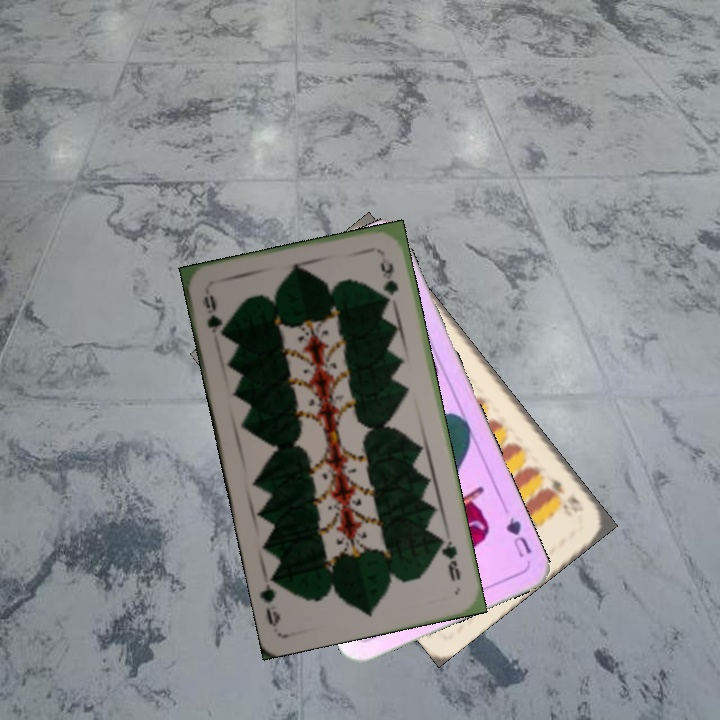E10: (538, 471, 583, 508)
G9: (199, 290, 229, 341), (435, 534, 463, 584)
GU: (502, 513, 534, 560)
